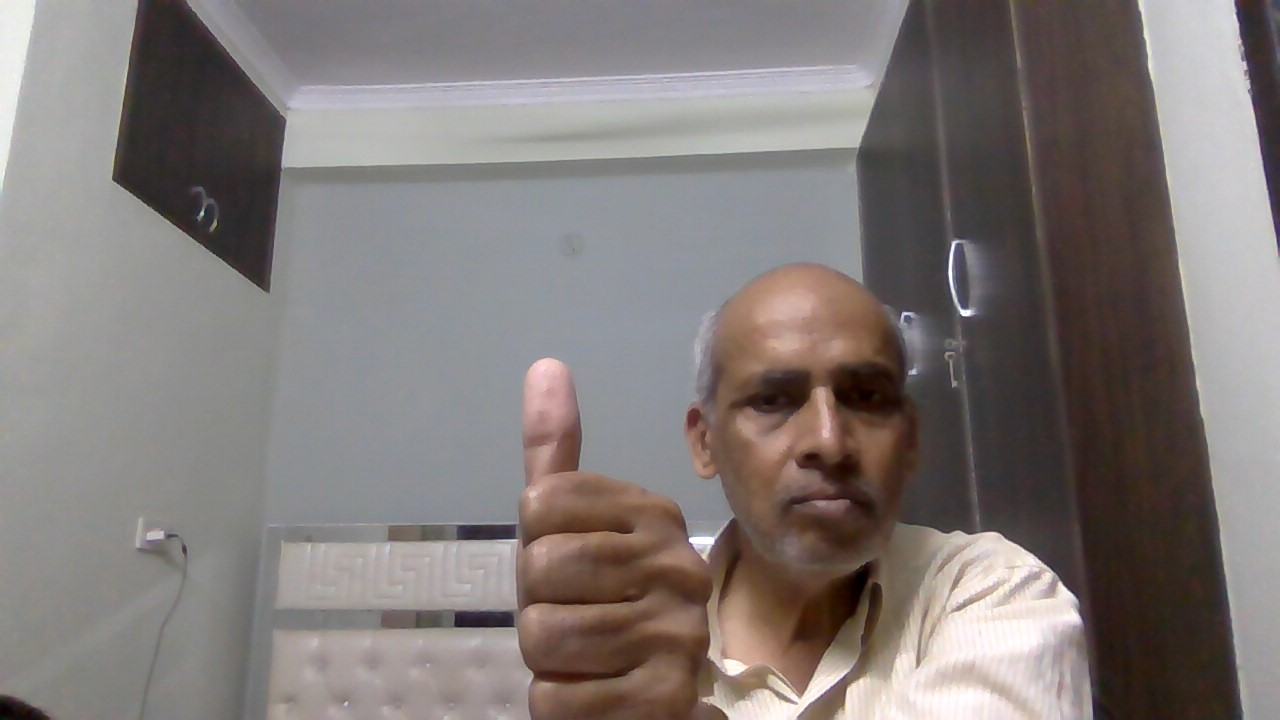Save: (481, 350, 736, 720)
